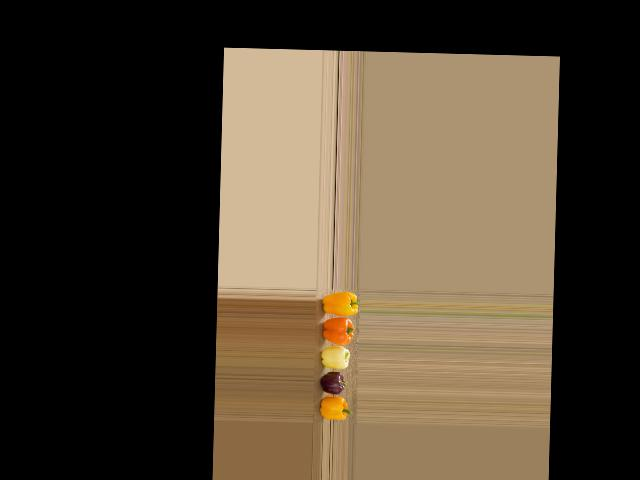bell_pepper: (314, 398, 353, 422)
